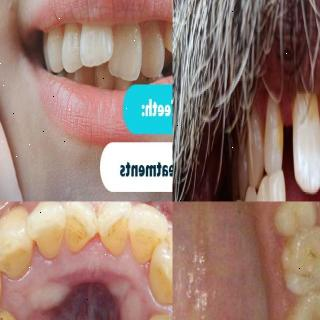cavities: (299, 246, 320, 288)
maligned: (290, 84, 320, 188), (103, 13, 142, 80), (77, 15, 116, 74), (57, 202, 99, 246), (135, 17, 163, 77), (96, 202, 128, 254), (262, 93, 284, 167), (268, 167, 288, 201), (239, 148, 251, 202), (230, 148, 241, 200), (163, 14, 173, 63)
stains: (274, 102, 286, 161)
